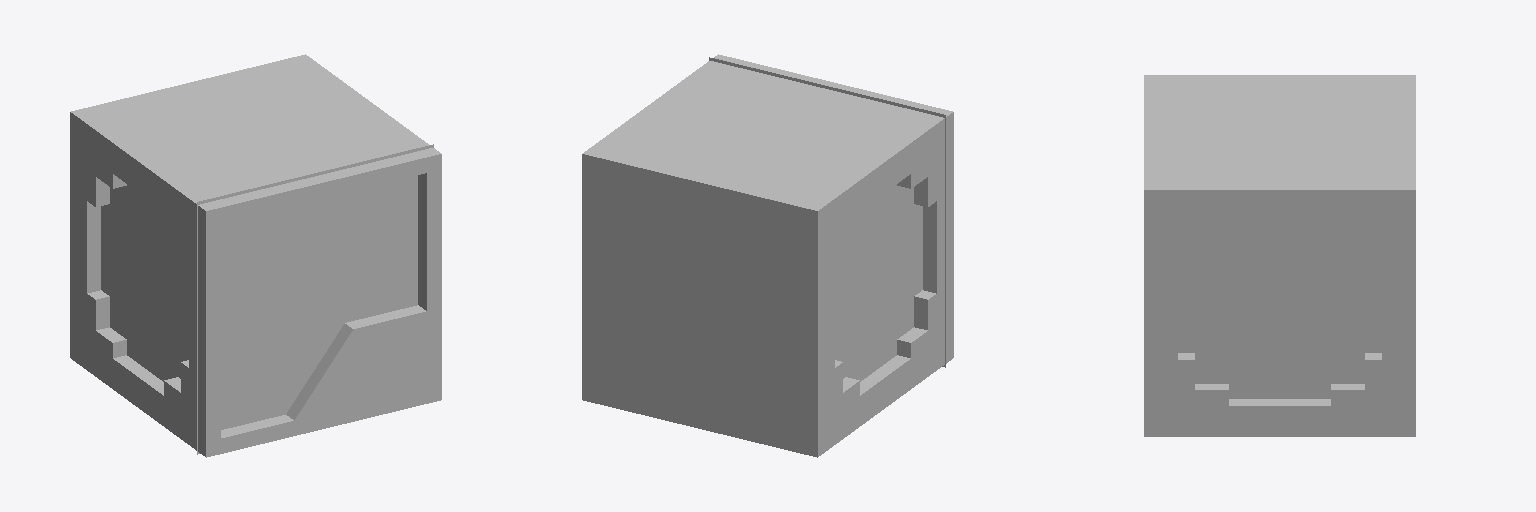
The model's file is replicator.obj.
3 renders of one model, left to right at view 1: azimuth 30°, elevation 25°; view 2: azimuth 150°, elevation 25°; view 3: azimuth 270°, elevation 25°, orthographic.
Parts seen in each view (by area): view 1: window, Vents, Shell, front_panel; view 2: Back, Vents, Shell, window; view 3: Vents, Shell.
Boxes of the visible parts, x1=… form: window: x1=197, y1=144, x2=433, y2=454; Vents: x1=70, y1=112, x2=205, y2=456; Shell: x1=71, y1=54, x2=440, y2=210; front_panel: x1=206, y1=154, x2=441, y2=457; Back: x1=582, y1=154, x2=817, y2=457; Vents: x1=818, y1=112, x2=953, y2=456; Shell: x1=583, y1=54, x2=952, y2=210; window: x1=709, y1=57, x2=945, y2=367; Vents: x1=1144, y1=190, x2=1415, y2=436; Shell: x1=1144, y1=75, x2=1415, y2=189.
Bounding box in the file's own units: 1.01 × 1.03 × 1.